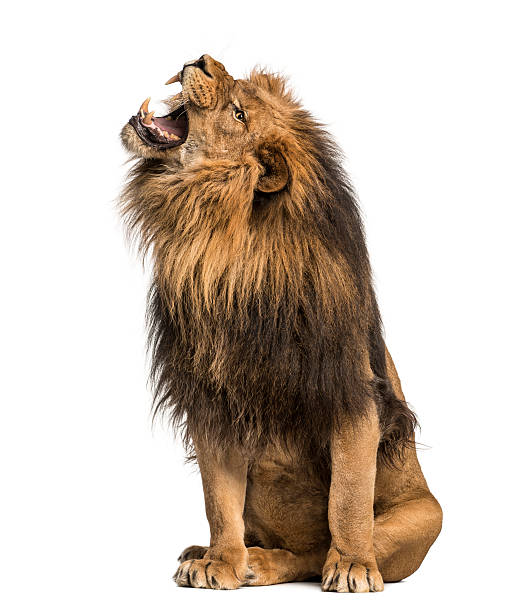lion: (78, 30, 451, 485)
